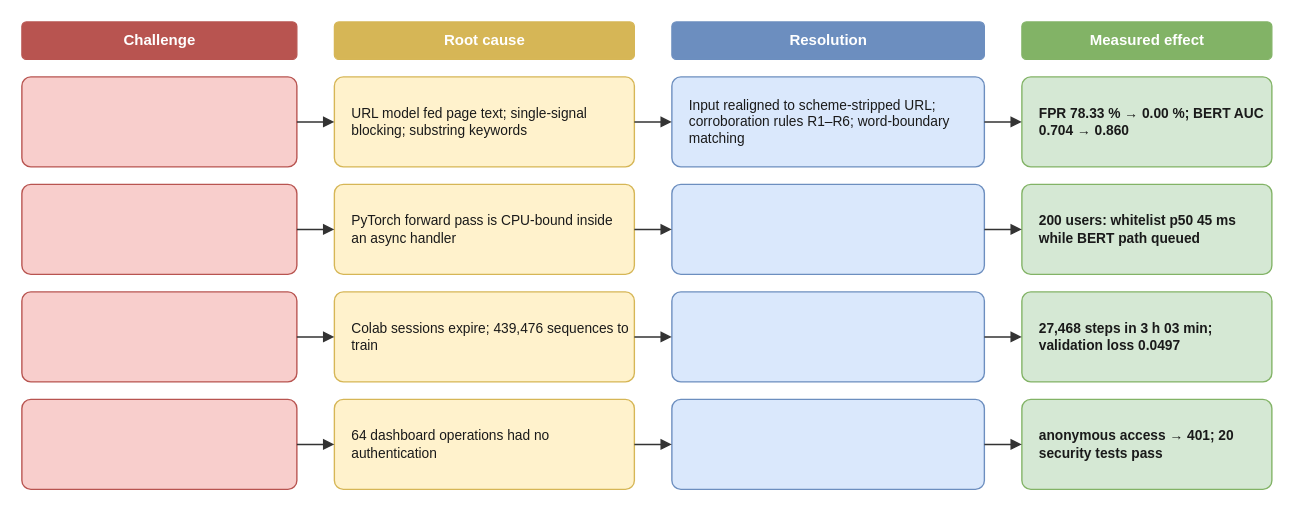
The diagram is 1295 pixels wide and 513 high, and some of its shapes have lost their labels. The shapes that lost their labels are listed below. From the top down, each one's box as (x1, y1, x2, y2) in pixels, then its label:
(21, 76, 297, 167): False positives on legitimate pages
(21, 183, 297, 274): Event loop blocked by inference
(671, 183, 984, 274): asyncio.to_thread + gather; whitelist bypass before any inference
(21, 291, 297, 382): GPU session limits during training
(671, 291, 984, 382): One epoch at batch 16; checkpoints written to Google Drive
(21, 398, 297, 490): Open administrative surface
(671, 398, 984, 490): Admin key / HttpOnly session; login 5 / min; CORS allow-list
